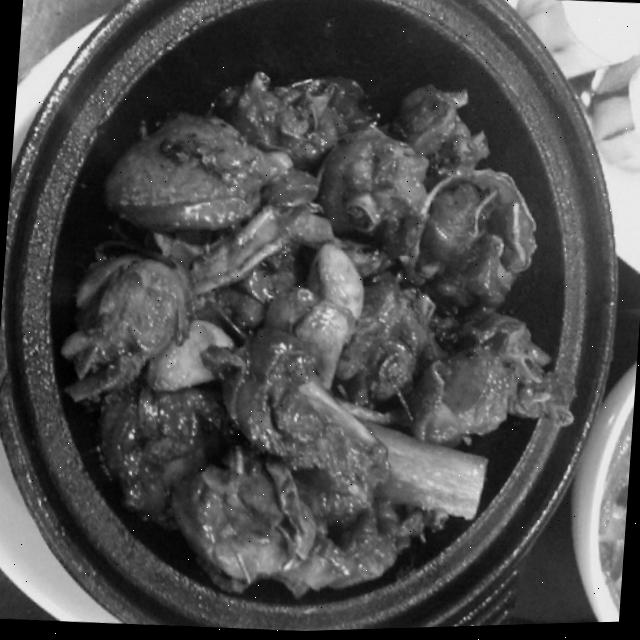鸡肉料理 含炸鸡: (3, 2, 619, 640)
